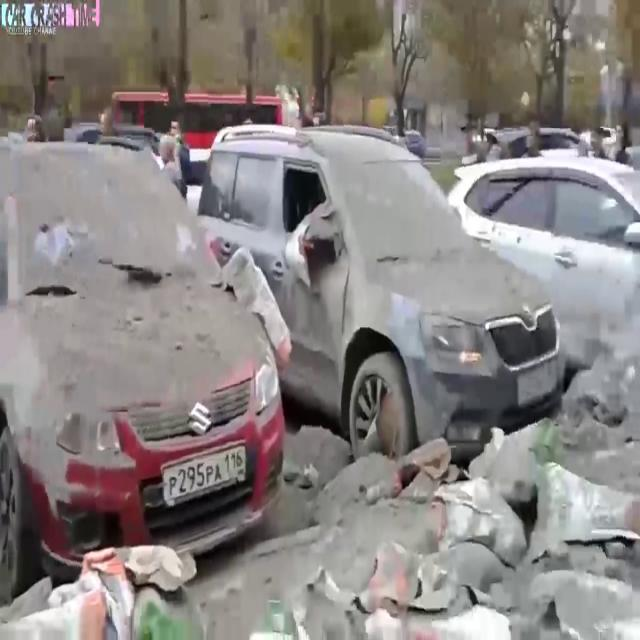Accident: (218, 54, 604, 511), (0, 110, 326, 571)
